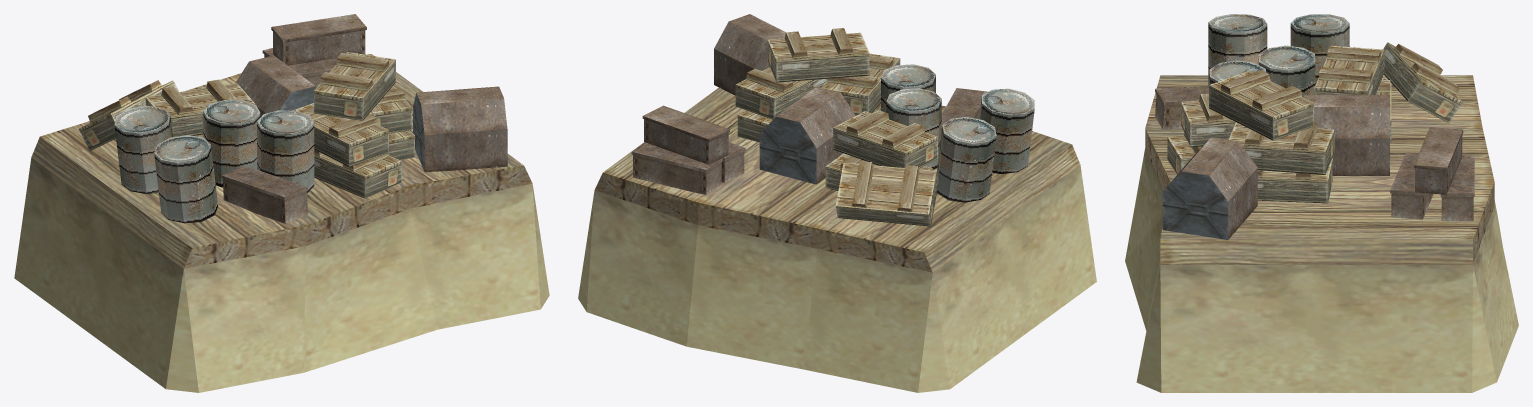
File: C3SMAMMO1H.obj
3 renders of one model, left to right at view 1: azimuth 30°, elevation 25°; view 2: azimuth 150°, elevation 25°; view 3: azimuth 270°, elevation 25°, orthographic. The views are drawn at different scales.
Parts seen in each view (by area): view 1: Node 0, Node 19, Node 2, Node 15, Node 3, Node 1, Node 8, Node 4, Node 9, Node 14, Node 10, Node 18 (+5 smaller); view 2: Node 0, Node 10, Node 17, Node 15, Node 1, Node 18, Node 2, Node 8, Node 19, Node 6, Node 13, Node 4 (+6 smaller); view 3: Node 0, Node 19, Node 10, Node 15, Node 13, Node 17, Node 18, Node 2, Node 8, Node 11, Node 1, Node 4 (+6 smaller).
Part boxes in pixels (<box>): Node 0: <box>14,54,549,392</box>; Node 19: <box>413,86,507,172</box>; Node 2: <box>154,135,218,223</box>; Node 15: <box>314,52,395,120</box>; Node 3: <box>257,110,314,193</box>; Node 1: <box>114,105,172,193</box>; Node 8: <box>271,14,366,65</box>; Node 4: <box>203,100,260,187</box>; Node 9: <box>221,165,307,223</box>; Node 14: <box>293,103,388,166</box>; Node 10: <box>235,55,316,117</box>; Node 18: <box>145,79,255,136</box>; Node 0: <box>578,87,1096,392</box>; Node 10: <box>759,86,855,184</box>; Node 17: <box>836,161,938,226</box>; Node 15: <box>768,28,869,82</box>; Node 1: <box>937,117,996,202</box>; Node 18: <box>833,110,937,168</box>; Node 2: <box>979,88,1034,173</box>; Node 8: <box>642,105,729,164</box>; Node 19: <box>714,14,785,95</box>; Node 6: <box>631,142,722,194</box>; Node 13: <box>735,67,826,119</box>; Node 4: <box>886,88,941,169</box>; Node 0: <box>1125,75,1518,392</box>; Node 19: <box>1162,137,1257,239</box>; Node 10: <box>1303,94,1389,175</box>; Node 15: <box>1209,70,1313,140</box>; Node 13: <box>1228,122,1334,174</box>; Node 17: <box>1383,42,1462,123</box>; Node 18: <box>1315,45,1384,94</box>; Node 2: <box>1208,14,1267,85</box>; Node 8: <box>1414,127,1463,194</box>; Node 11: <box>1257,158,1332,203</box>; Node 1: <box>1290,14,1349,85</box>; Node 4: <box>1258,45,1315,97</box>.
Size of the model in its own units: 9.9 by 5.59 by 8.58.
Materials: 25 (25 with a texture image).
